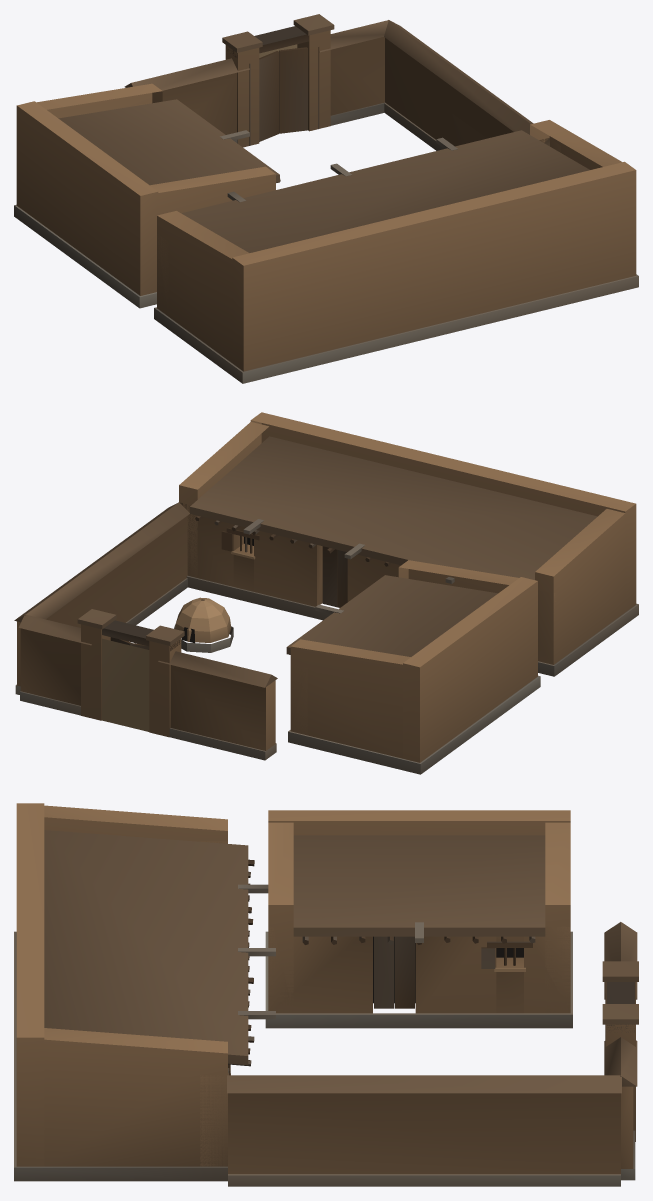
File: casa_patio_a_lod.glb
3 views of the same model, one above another, from view 1: azimuth 30°, elevation 25°; view 2: azimuth 150°, elevation 25°; view 3: azimuth 270°, elevation 25° (orthographic). The views are drawn at different scales.
Visible parts, largest first — view 1: casa_patio_a; view 2: casa_patio_a; view 3: casa_patio_a.
Part boxes in pixels (box(x1,y1,x2,y2)): casa_patio_a: box(14, 14, 638, 383); casa_patio_a: box(14, 412, 638, 774); casa_patio_a: box(14, 803, 638, 1186).
Size of the model in its own units: 11.38 by 3.13 by 12.41.
